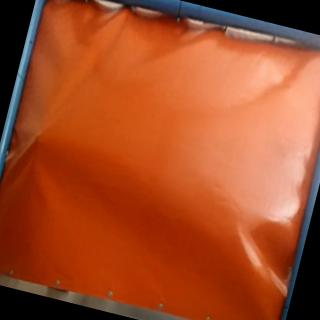Hit-hRxx: (32, 126, 49, 148)
